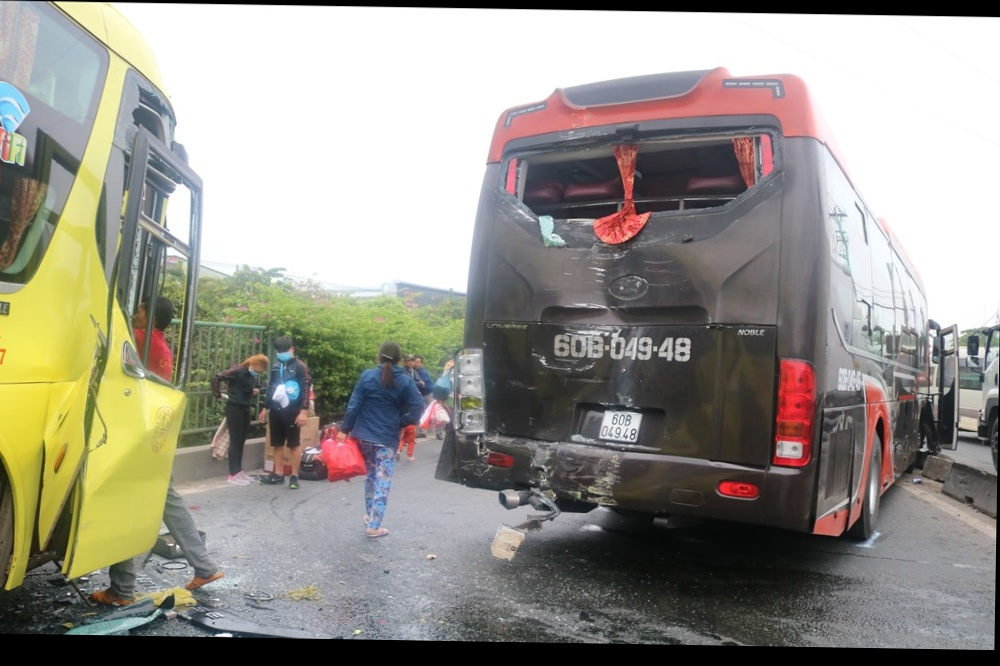Bien-so: (598, 407, 645, 443)
